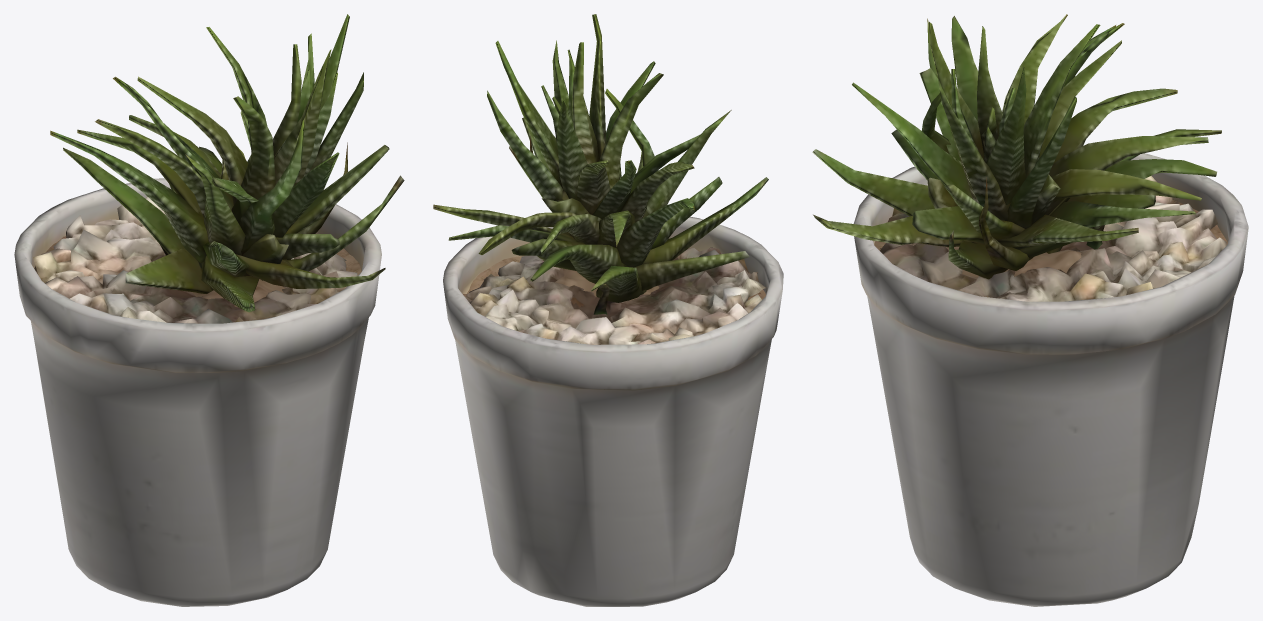
The model's file is potted_plant_04.glb.
3 renders of one model, left to right at view 1: azimuth 30°, elevation 25°; view 2: azimuth 150°, elevation 25°; view 3: azimuth 270°, elevation 25°, orthographic. The views are drawn at different scales.
Visible parts, largest first — view 1: potted_plant_04_ground; view 2: potted_plant_04_ground; view 3: potted_plant_04_ground.
Boxes of the visible parts, box(x1,y1,x2,y2) form: potted_plant_04_ground: box(14, 14, 404, 606); potted_plant_04_ground: box(433, 14, 783, 606); potted_plant_04_ground: box(812, 14, 1248, 606).
Bounding box in the file's own units: 0.1672 × 0.2672 × 0.184.
1 material, 1 textured.
